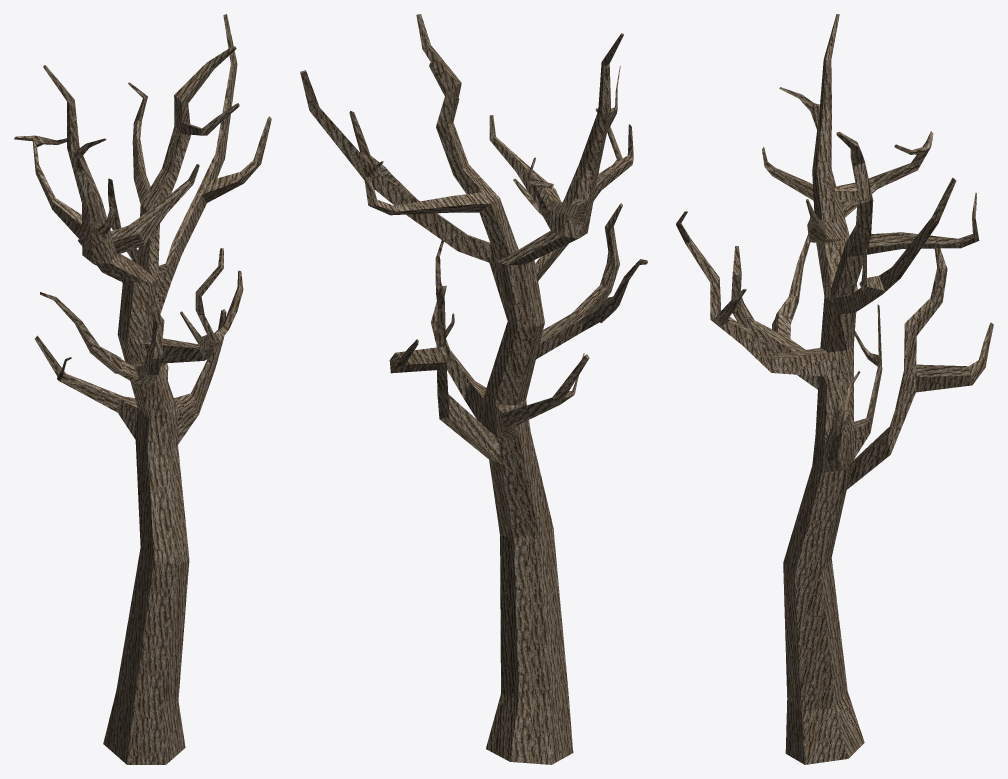
File: Scrub_Tree.glb
3 renders of one model, left to right at view 1: azimuth 30°, elevation 25°; view 2: azimuth 150°, elevation 25°; view 3: azimuth 270°, elevation 25°, orthographic. The views are drawn at different scales.
Parts seen in each view (by area): view 1: Cube.1107; view 2: Cube.1107; view 3: Cube.1107.
Part boxes in pixels (x1,y1,x2,y2): Cube.1107: [14, 14, 271, 764]; Cube.1107: [300, 14, 647, 764]; Cube.1107: [676, 14, 993, 764].
Size of the model in its own units: 3.38 by 8.87 by 3.68.
1 material, 1 textured.
